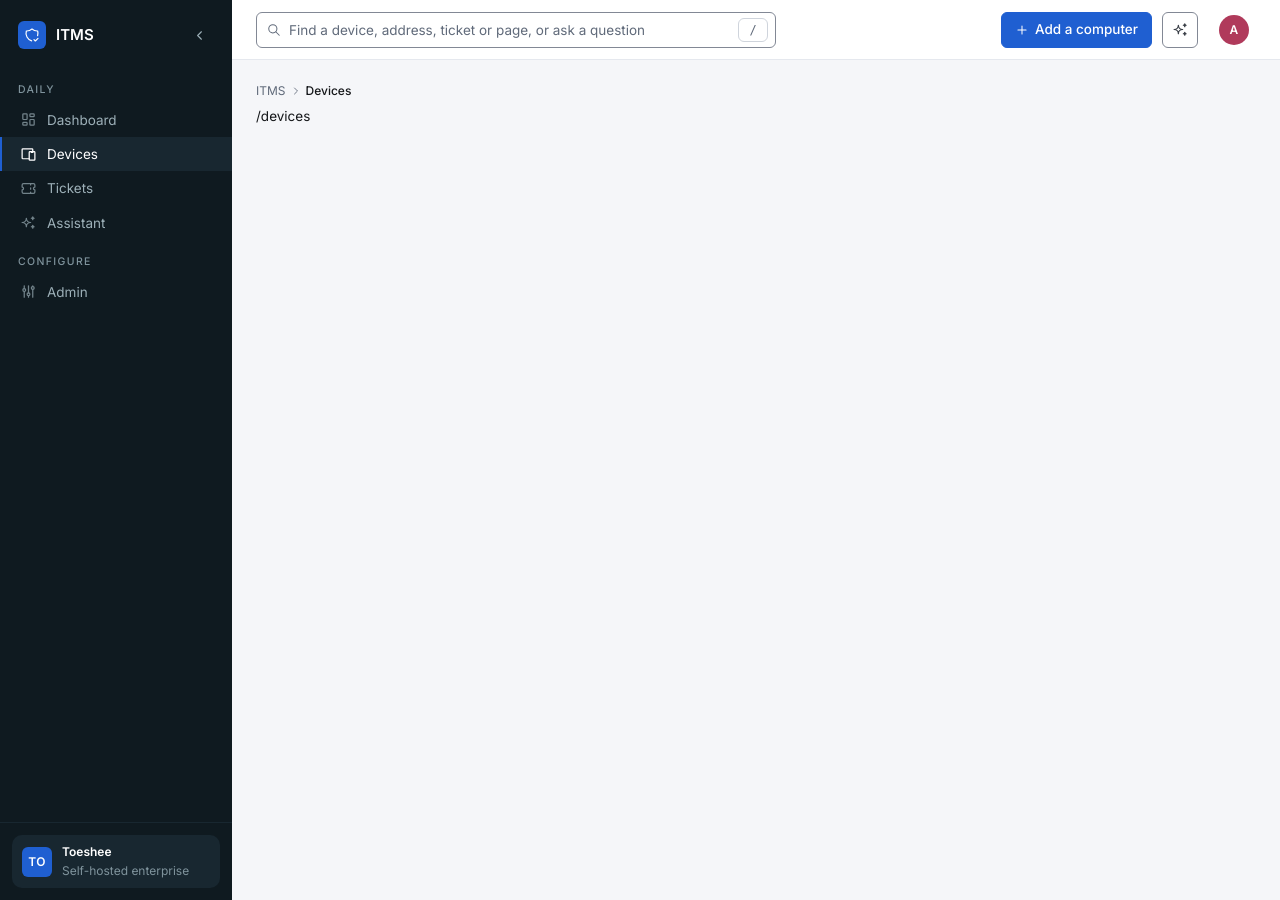
Scenario: the top-bar search finds records › finds a ticket by number as well as by subject
Click the dropdown named "find or ask": (516, 30) [256,12,776,48]
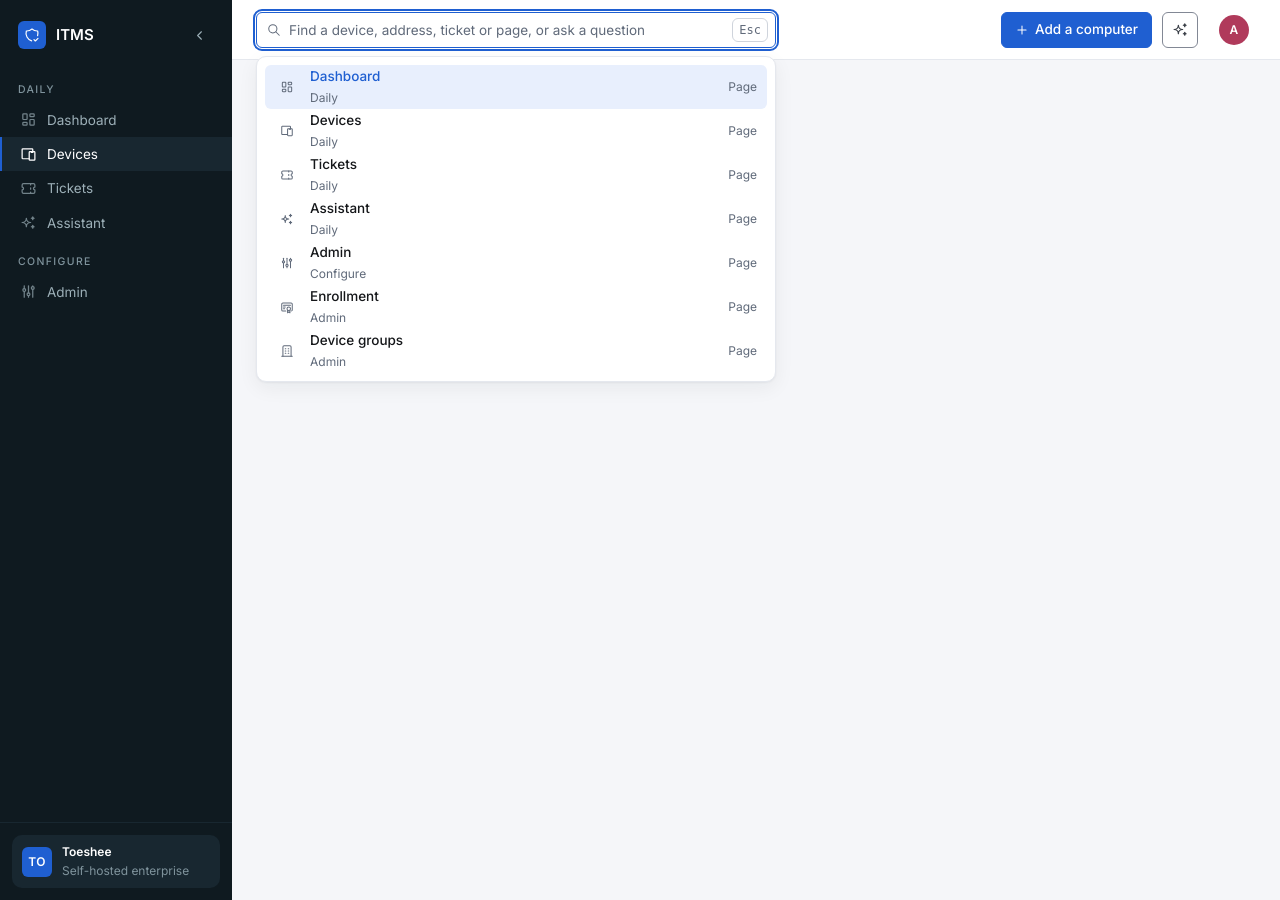
Type keys "INC-42"
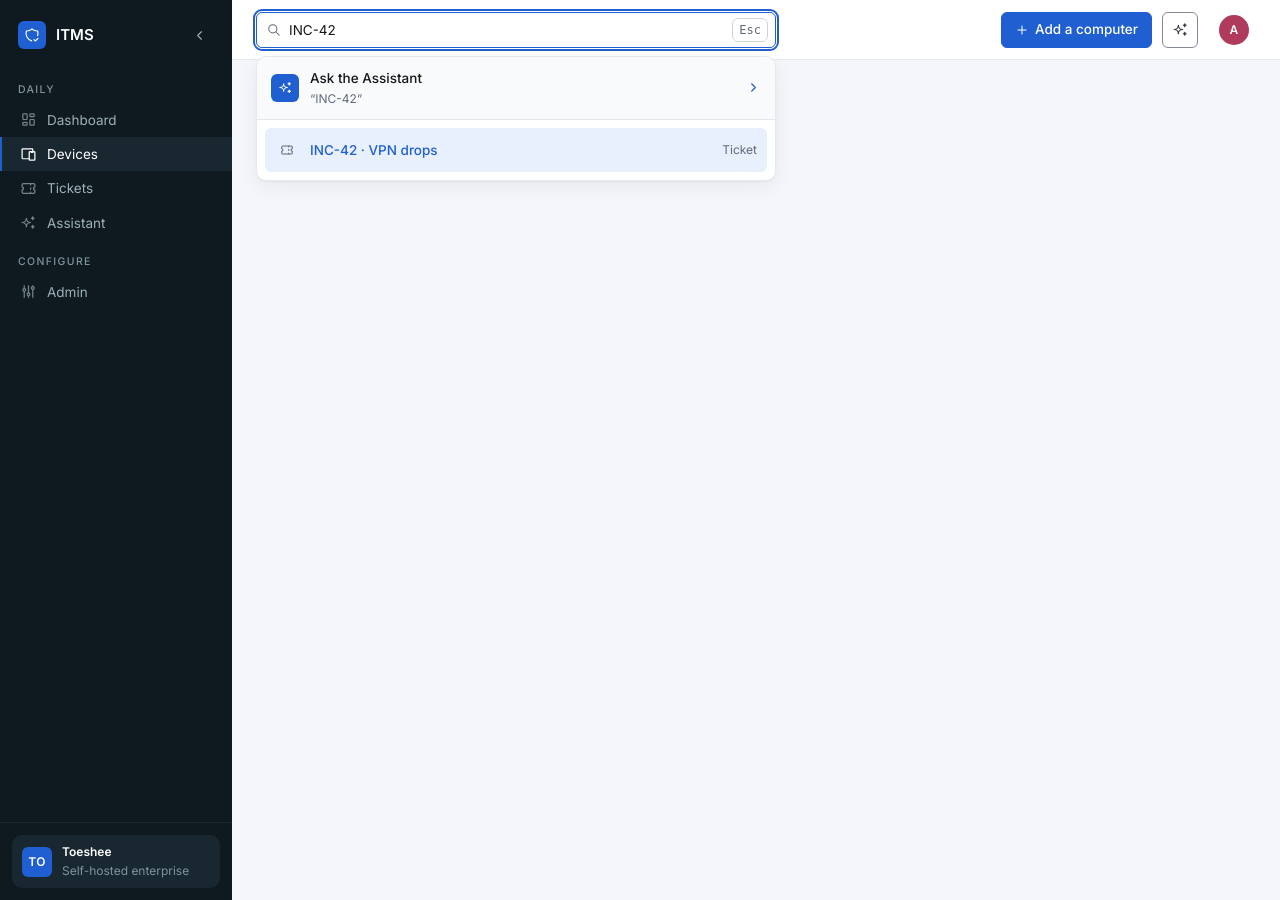
Result: the option "INC-42 · VPN drops Ticket" is shown at [265,128,767,172]
